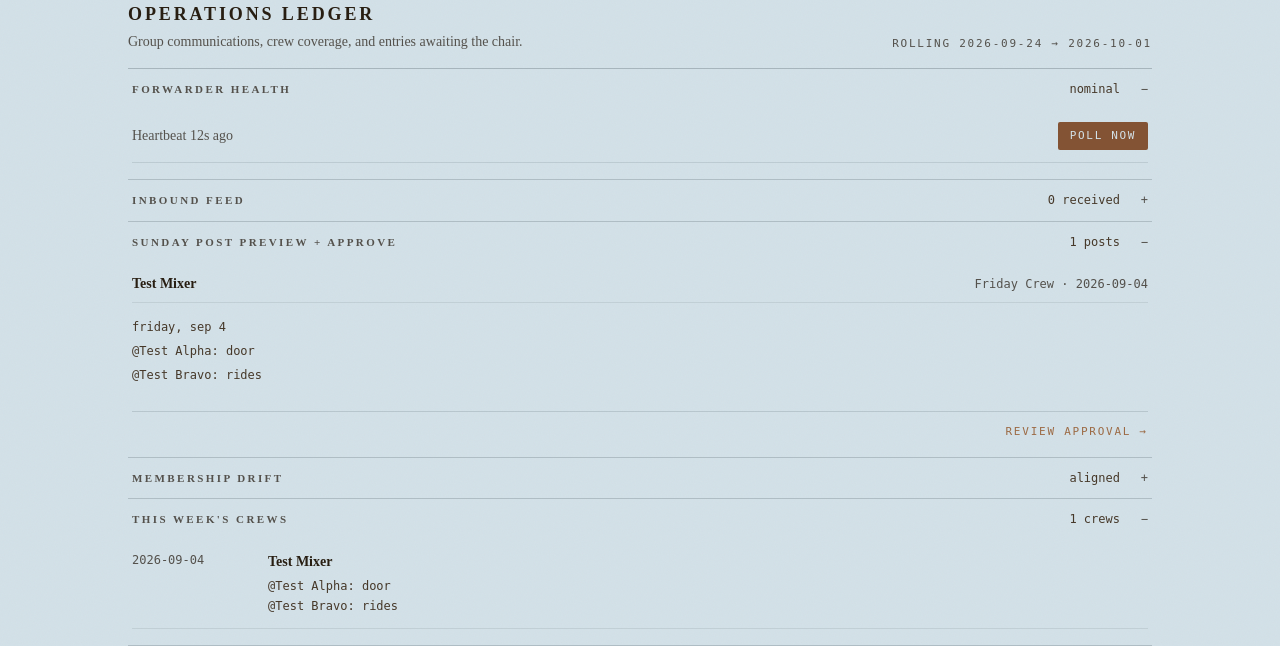
Test case: Ops — approving an announcement › names the crew who will not be tagged
Click the button "Review approval →": {"x": 1077, "y": 432} [1006,424,1148,440]
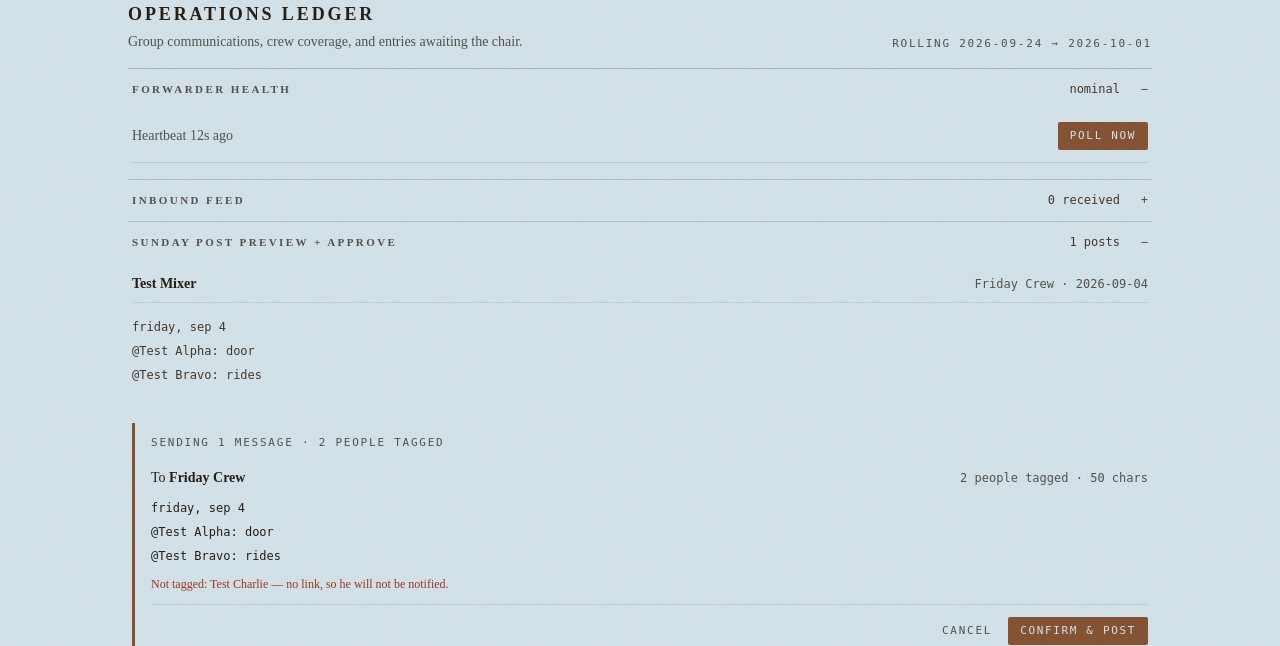
Result: the text "Not tagged: Test Charlie" is shown at [151,576,449,590]
